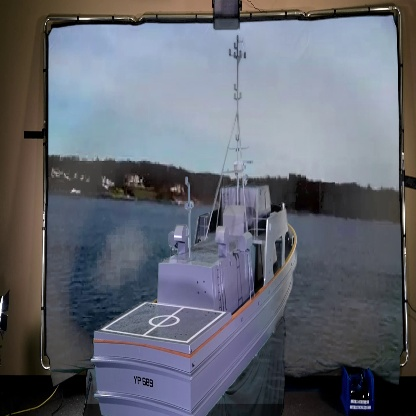YP689: (89, 47, 305, 416)
